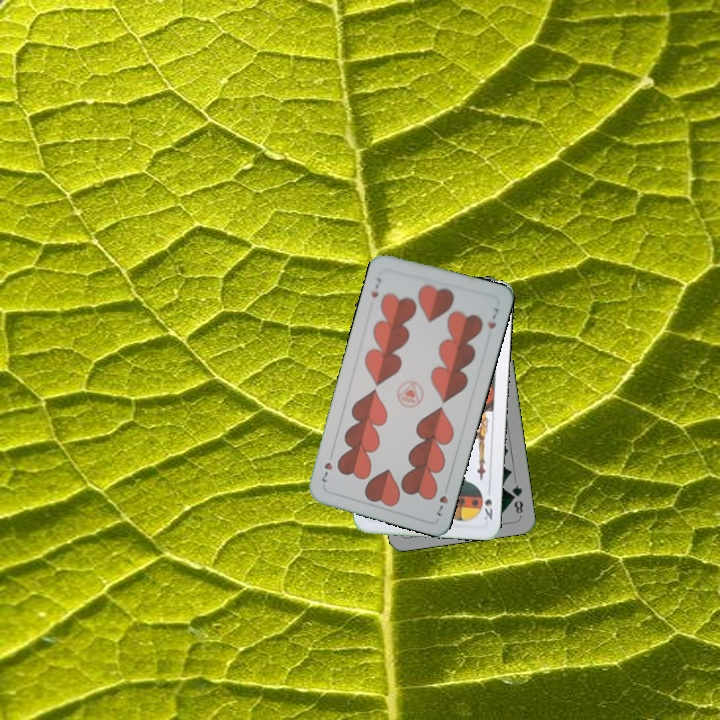G8: (507, 481, 526, 516)
H7: (432, 480, 451, 519), (367, 273, 384, 300)
SK: (480, 495, 495, 523)
